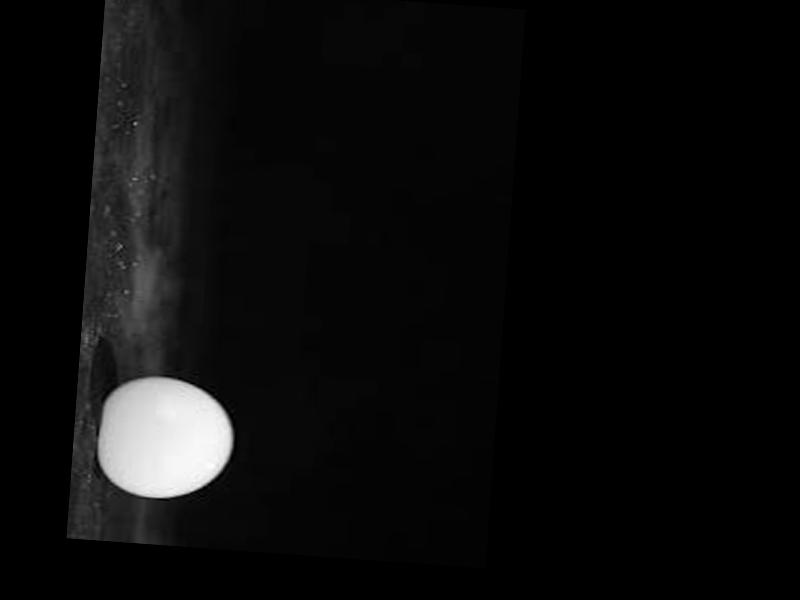Eggs: (96, 372, 237, 502)
